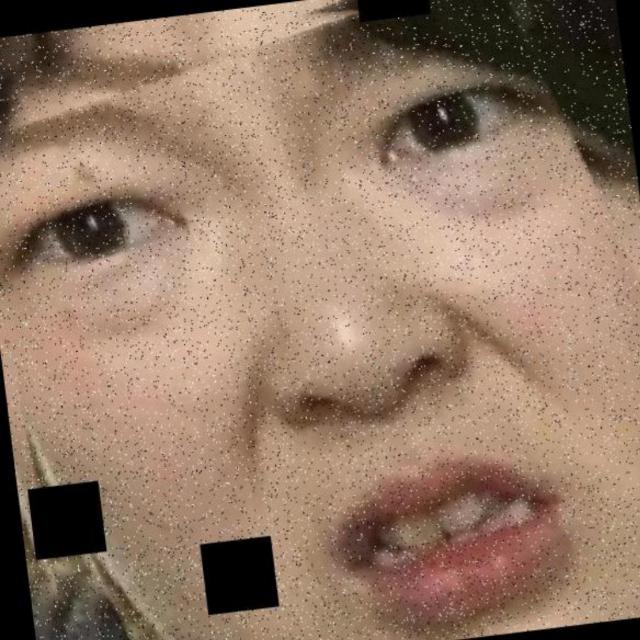Angry: (23, 23, 640, 640)
